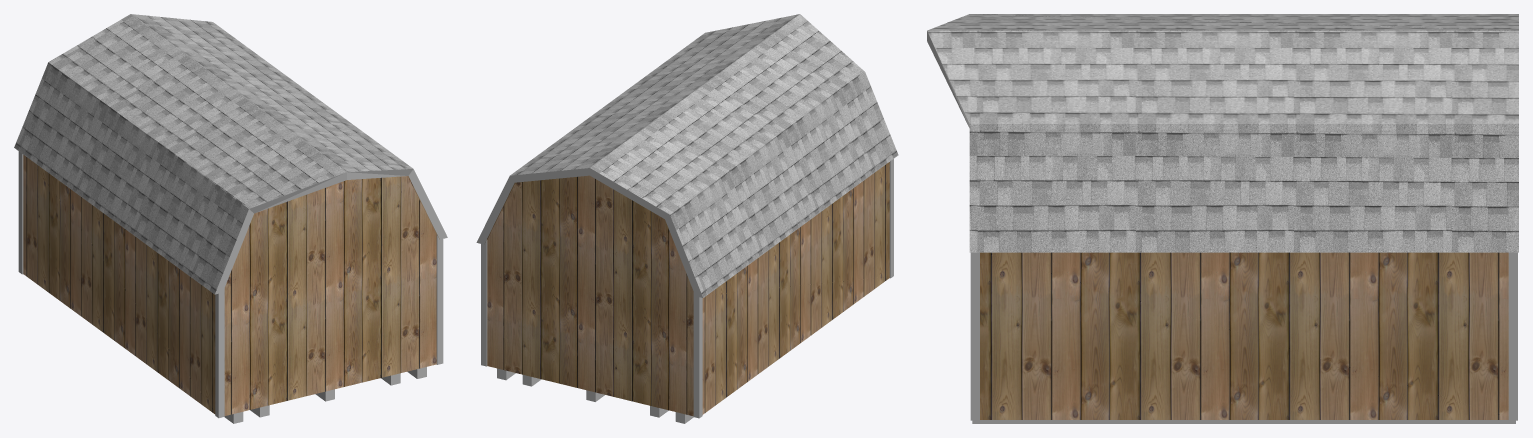
The model's file is Mini Barn Sheds_8x12.obj.
3 renders of one model, left to right at view 1: azimuth 30°, elevation 25°; view 2: azimuth 150°, elevation 25°; view 3: azimuth 270°, elevation 25°, orthographic. The views are drawn at different scales.
Visible parts, largest first — view 1: Shed, Roof, Trim, Sides, Floor; view 2: Shed, Roof, Trim, Sides, Floor; view 3: Roof, Shed, Trim, Floor.
Boxes of the visible parts, bbox=[...] form: Shed: bbox=[23, 155, 439, 415]; Roof: bbox=[14, 14, 413, 294]; Trim: bbox=[18, 151, 443, 418]; Sides: bbox=[215, 169, 447, 294]; Floor: bbox=[224, 367, 426, 423]; Shed: bbox=[485, 162, 889, 416]; Roof: bbox=[510, 14, 898, 297]; Trim: bbox=[481, 159, 893, 418]; Sides: bbox=[476, 168, 702, 297]; Floor: bbox=[497, 368, 693, 423]; Roof: bbox=[927, 14, 1518, 252]; Shed: bbox=[980, 252, 1508, 419]; Trim: bbox=[970, 252, 1517, 420]; Floor: bbox=[972, 420, 1515, 423].
Size of the model in its own units: 2.48 by 2.44 by 3.98.
